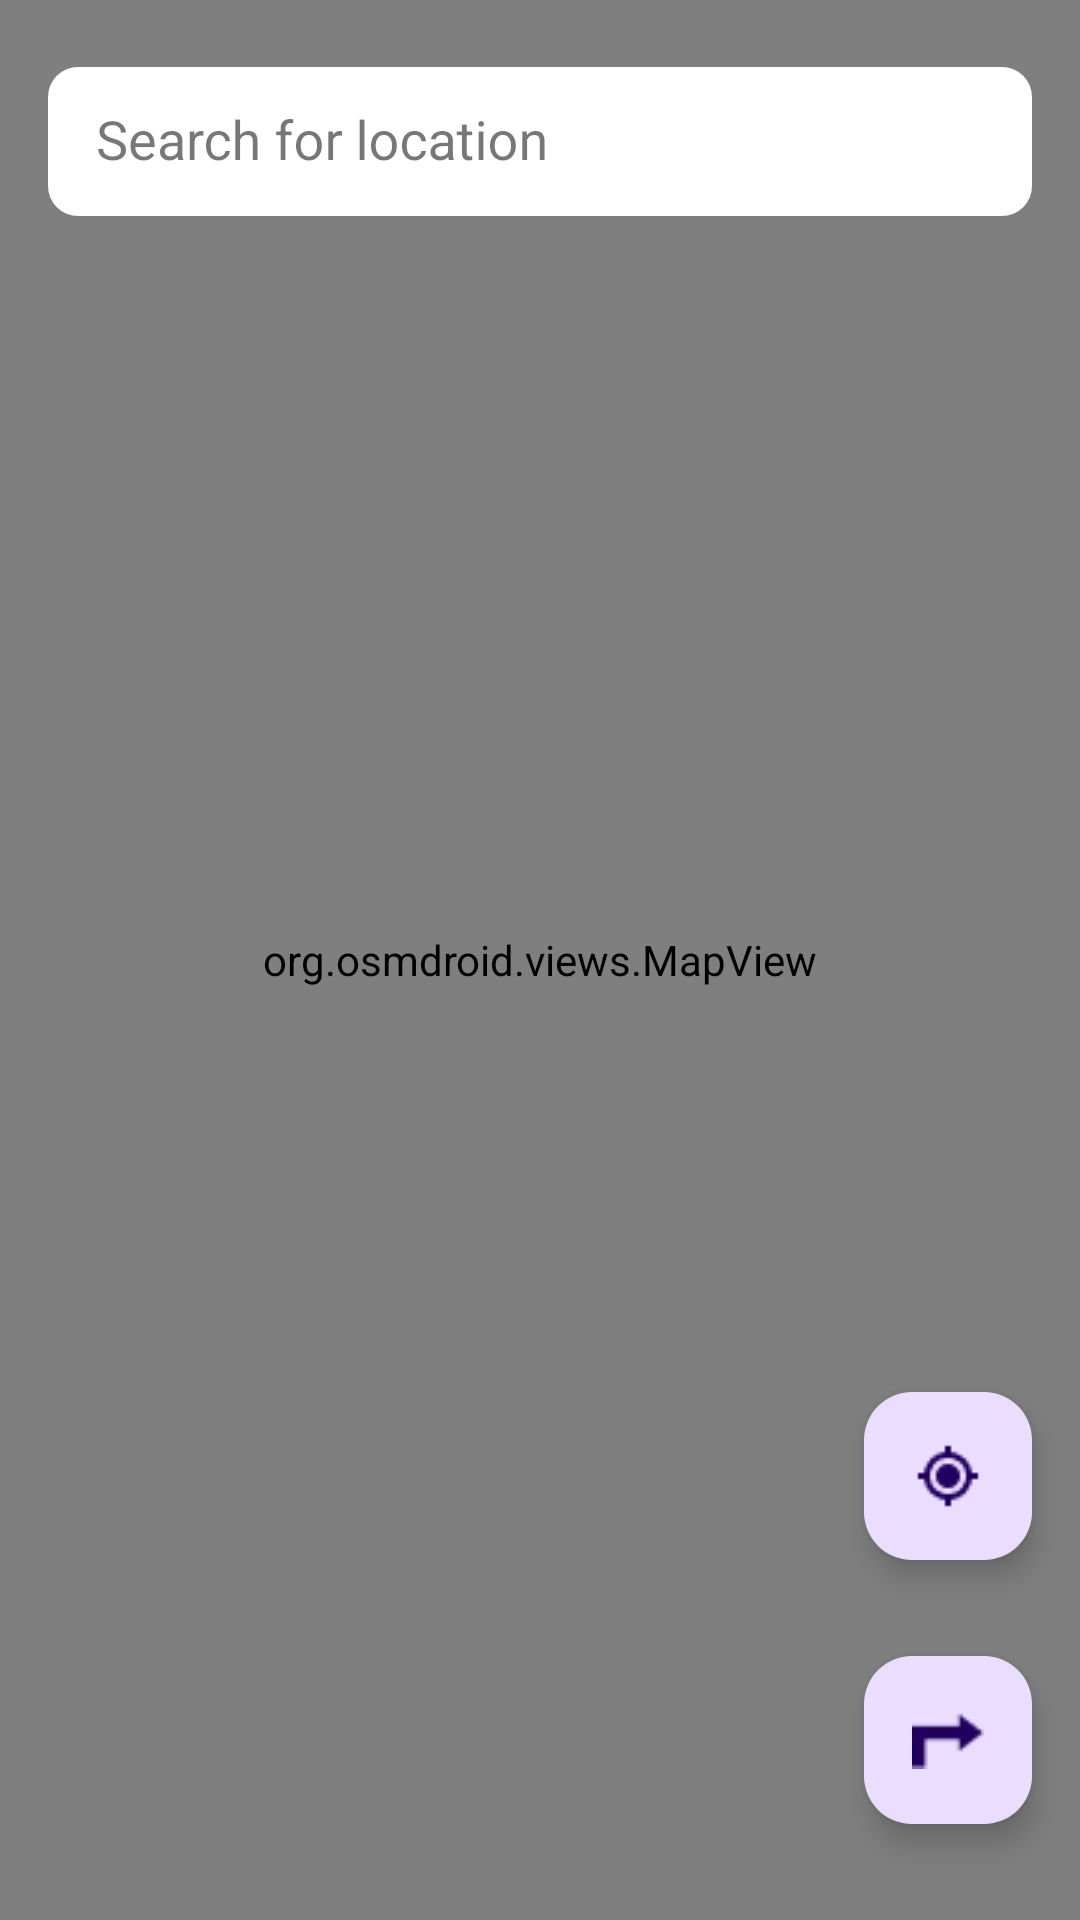

Named icons in this screenshot (1080×1920) and their bounding boxes, {"x1": x1, "y1": y1, "x2": x2, "y2": y2}:
current location: {"x1": 864, "y1": 1392, "x2": 1032, "y2": 1560}
navigate: {"x1": 864, "y1": 1656, "x2": 1032, "y2": 1824}
